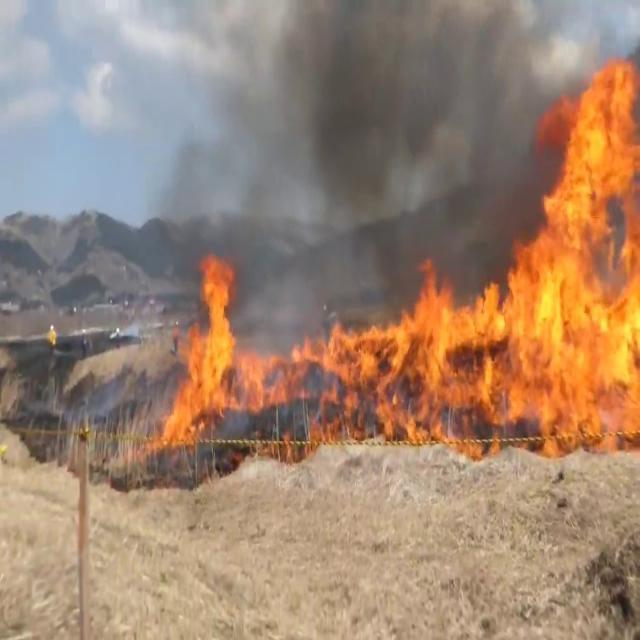Fire: (157, 253, 638, 439), (502, 43, 640, 445)
Smoke: (155, 0, 580, 294)
